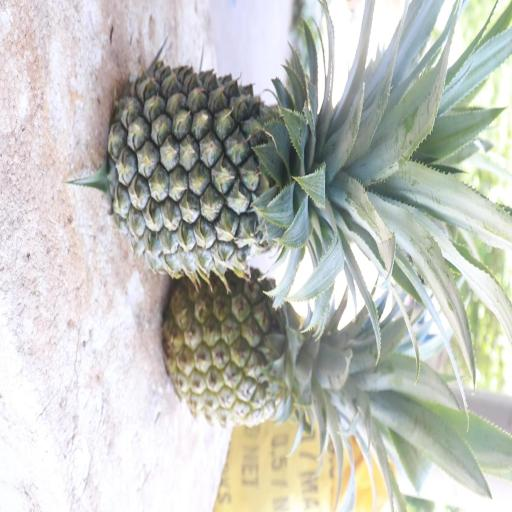------------------------------: (158, 254, 390, 432)
